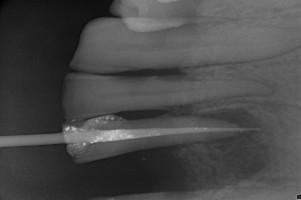Furcation Involvement: (183, 106, 269, 184)
